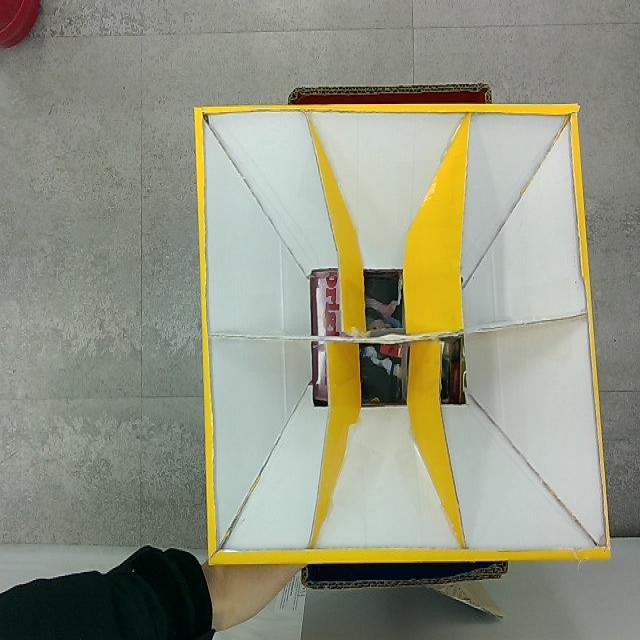box: (196, 84, 612, 579)
